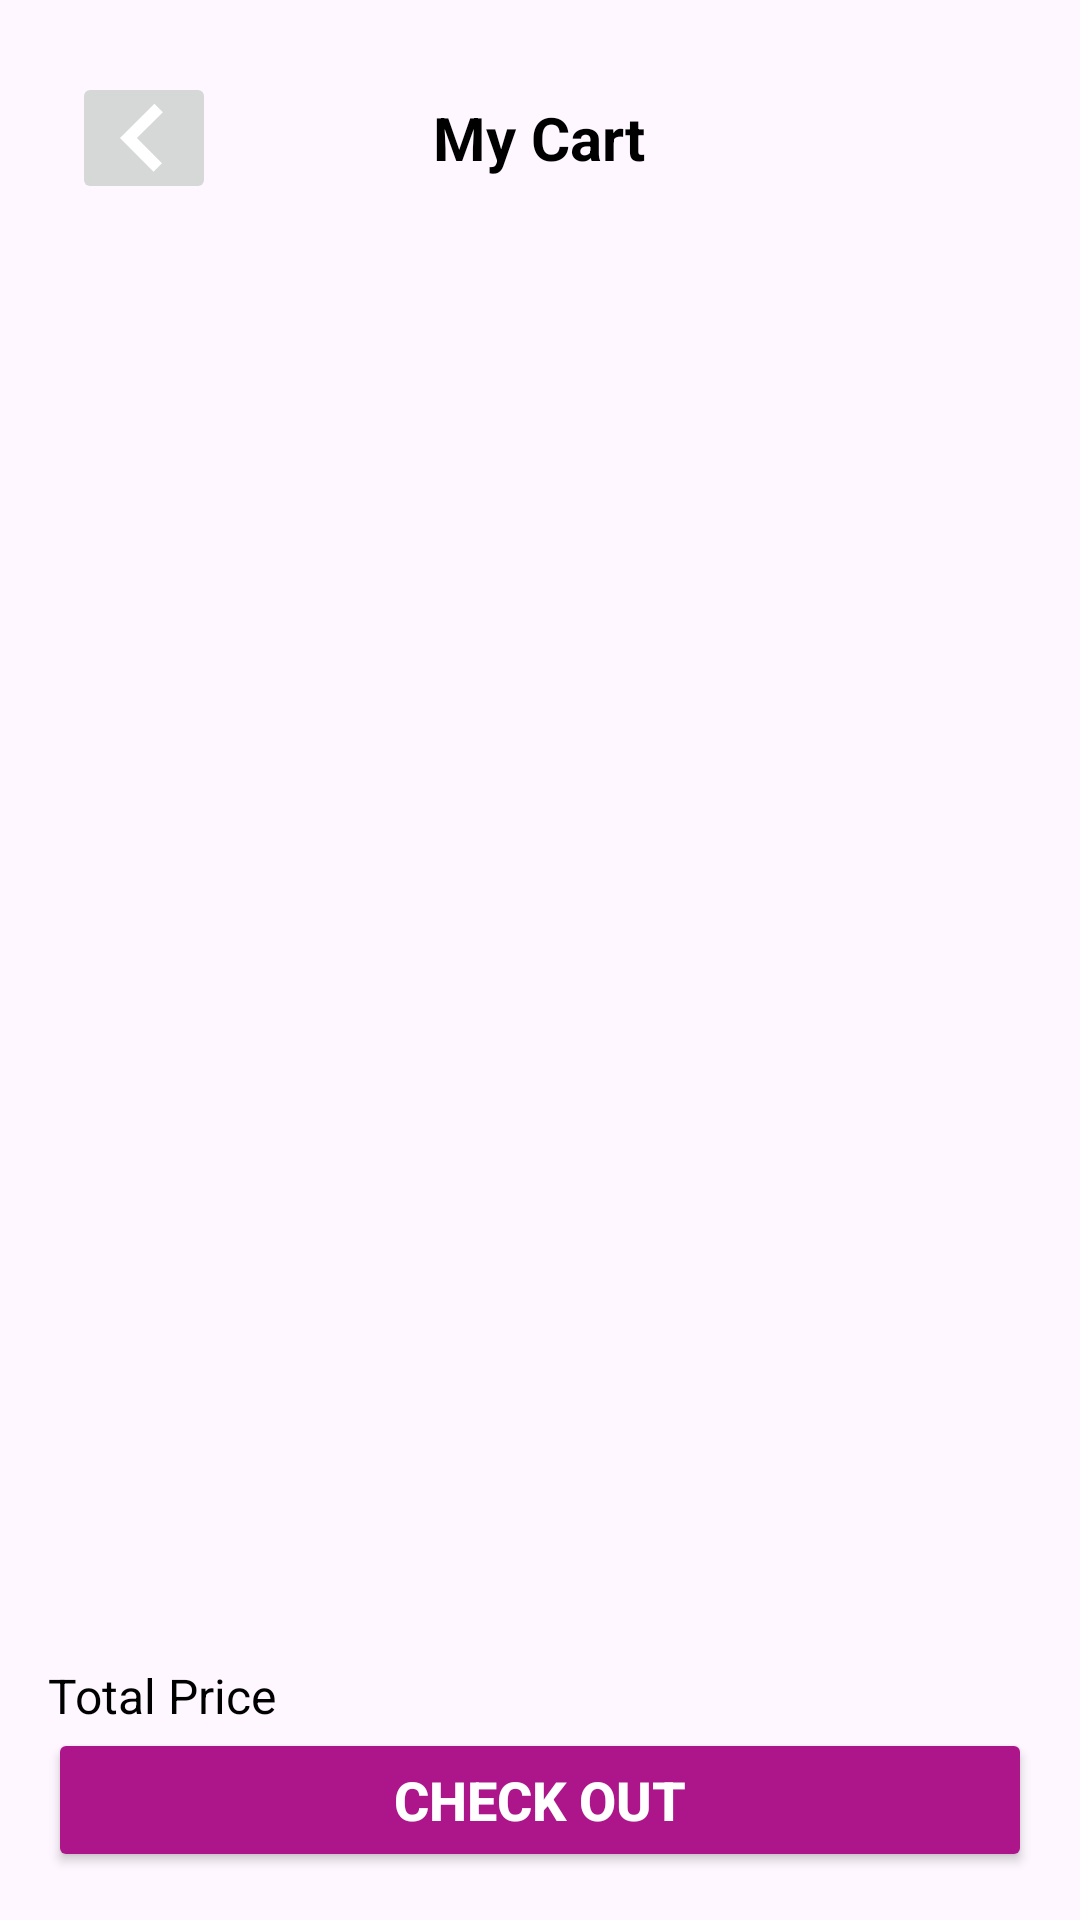

Where to tap for icons on this 1080*1920 app screen, as point (x, y):
back: point (144, 138)
